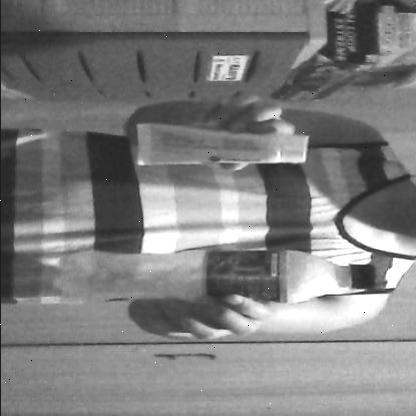Plastic Bottle: (44, 240, 392, 312)
